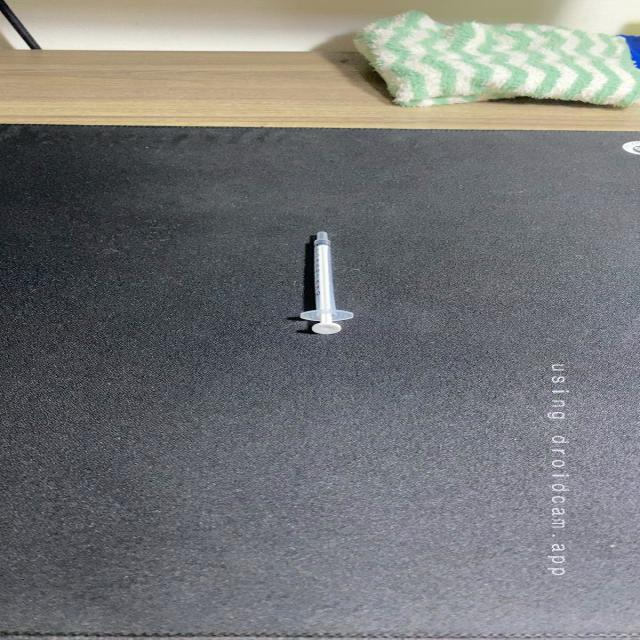syringe: (292, 224, 358, 338)
